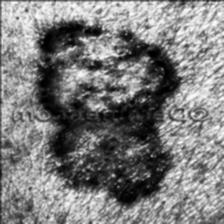Potentially Malignant Skin Tumors: (41, 24, 174, 108)
